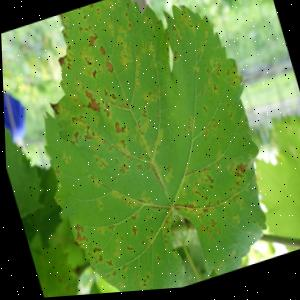Folha: (3, 0, 292, 300)
Fungo: (179, 162, 219, 208), (127, 109, 157, 158), (191, 72, 221, 112), (216, 64, 245, 102), (195, 117, 227, 148), (176, 111, 201, 149), (112, 32, 132, 75), (87, 241, 111, 273), (68, 216, 90, 249), (227, 157, 251, 185), (82, 88, 101, 117), (115, 164, 129, 179), (85, 35, 98, 50), (128, 226, 137, 240), (105, 63, 114, 77), (124, 247, 132, 256)
